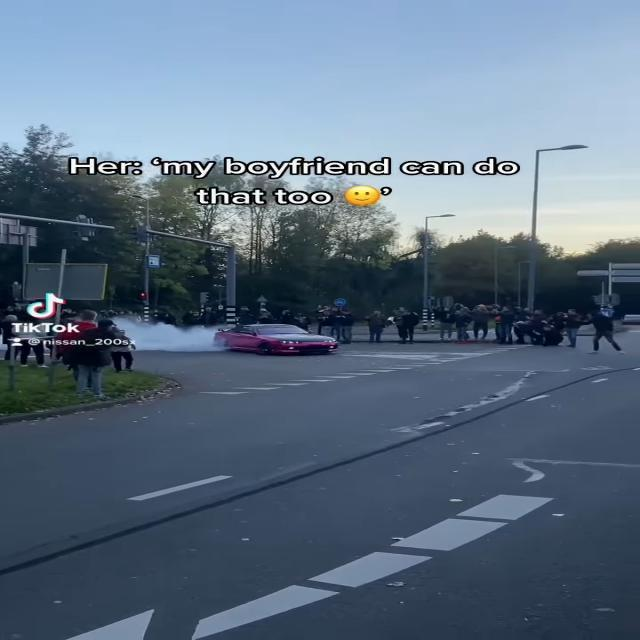car: (217, 322, 345, 360)
